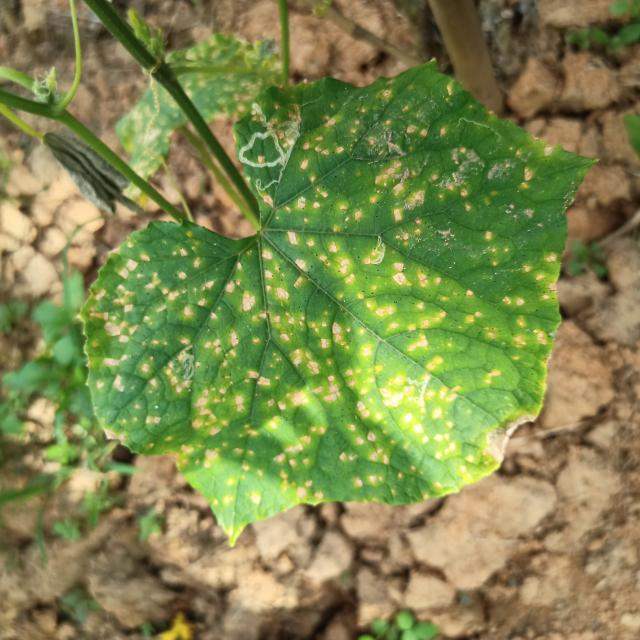disease_cucumber: (95, 89, 545, 492)
